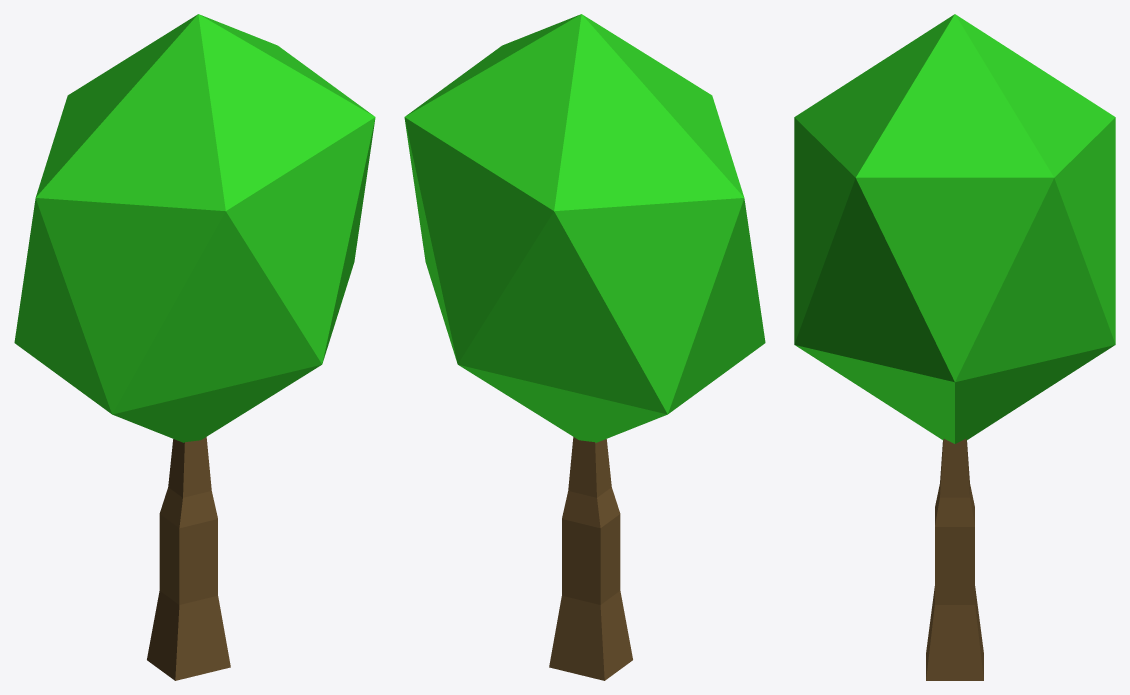
File: Tree1.fbx
The picture shows the model from 3 angles, left to right: view 1: azimuth 30°, elevation 25°; view 2: azimuth 150°, elevation 25°; view 3: azimuth 270°, elevation 25°; orthographic projection.
Parts seen in each view (by area): view 1: Tree.004; view 2: Tree.004; view 3: Tree.004.
Boxes of the visible parts, x1,y1,x2,y2 form: Tree.004: (14,14,375,680); Tree.004: (404,14,765,680); Tree.004: (794,14,1115,680).
Size of the model in its own units: 292 by 566 by 251.
